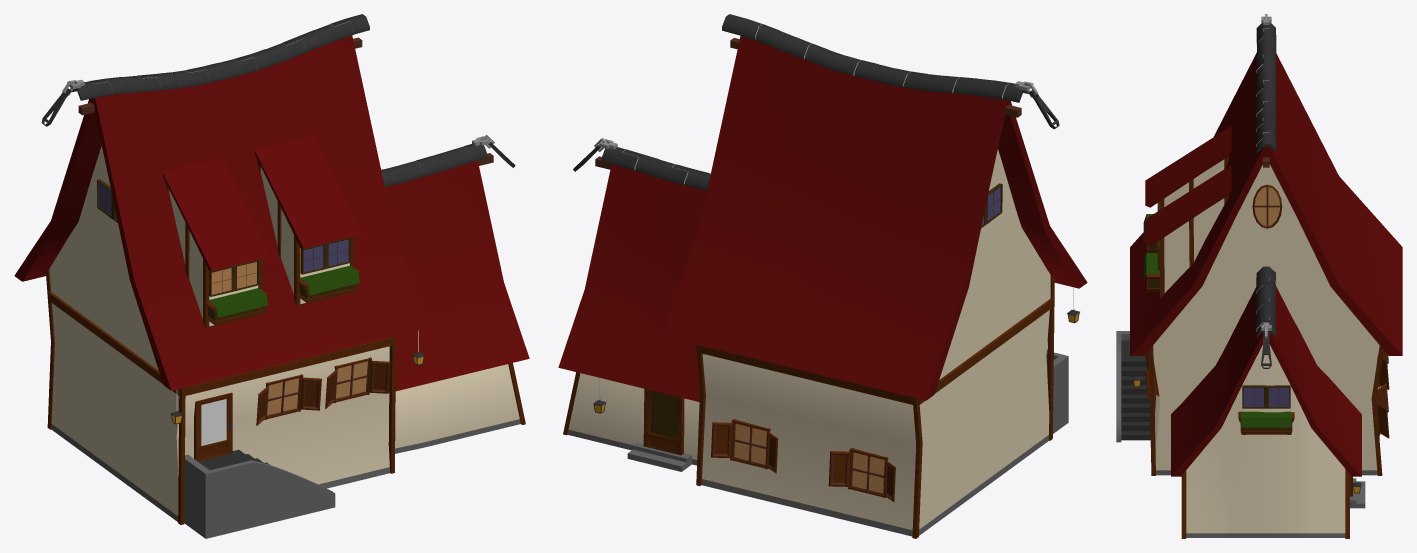
The model's file is HouseVariation.1.fbx.
The picture shows the model from 3 angles, left to right: view 1: azimuth 30°, elevation 25°; view 2: azimuth 150°, elevation 25°; view 3: azimuth 270°, elevation 25°; orthographic projection. The views are drawn at different scales.
Visible parts, largest first — view 1: Cube.145, Cube.144, Cube.147, Escada.001, Cube.146, Cube.156, Cube.150, Cube.102, PortaPresset.006, Cube.242, JanelasPequenas.008, JanelasPequenas.009 (+11 smaller); view 2: Cube.145, Cube.144, Cube.147, Cube.102, Cube.146, JanelasPequenas.007, JanelasPequenas.010, PortaPresset.004, Cube.242, Cube.172, Cube.152, Escada.001 (+4 smaller); view 3: Cube.145, Cube.144, Cube.146, Cube.147, Escada.001, Cube.102, Cube.156, Cube.150, Cube.154, Cube.242, Cube.153, Janela.024 (+7 smaller).
Part boxes in pixels (box(x1,y1,x2,y2)): Cube.145: box(14, 35, 428, 390); Cube.144: box(49, 146, 389, 521); Cube.147: box(385, 160, 529, 392); Escada.001: box(184, 449, 335, 538); Cube.146: box(388, 364, 520, 453); Cube.156: box(254, 135, 362, 248); Cube.150: box(162, 157, 271, 271); Cube.102: box(41, 14, 369, 126); PortaPresset.006: box(194, 392, 232, 461); Cube.242: box(381, 135, 515, 186); JanelasPequenas.008: box(325, 357, 390, 408); JanelasPequenas.009: box(256, 374, 321, 425); Cube.145: box(662, 36, 1087, 400); Cube.144: box(701, 149, 1050, 536); Cube.147: box(558, 164, 706, 401); Cube.102: box(722, 14, 1059, 129); Cube.146: box(567, 373, 699, 465); JanelasPequenas.007: box(828, 447, 895, 501); JanelasPequenas.010: box(711, 419, 778, 473); PortaPresset.004: box(643, 389, 684, 455); Cube.242: box(573, 137, 710, 190); Cube.172: box(700, 346, 912, 404); Cube.152: box(918, 298, 1053, 404); Escada.001: box(1046, 351, 1068, 433); Cube.145: box(1130, 53, 1402, 355); Cube.144: box(1153, 164, 1379, 475); Cube.146: box(1186, 344, 1345, 537); Cube.147: box(1171, 281, 1361, 476); Escada.001: box(1116, 331, 1155, 442); Cube.102: box(1256, 14, 1276, 152); Cube.156: box(1145, 165, 1231, 246); Cube.150: box(1145, 126, 1231, 207); Cube.154: box(1164, 198, 1224, 292); Cube.242: box(1256, 266, 1275, 368); Cube.153: box(1238, 411, 1294, 434); Janela.024: box(1242, 385, 1290, 408).
Bounding box in the file's own units: 2053 × 1694 × 1248.
